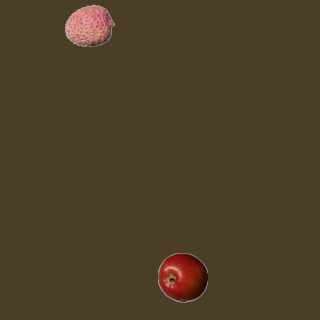Apple Braeburn: (157, 252, 207, 302)
Lychee: (64, 0, 114, 50)
